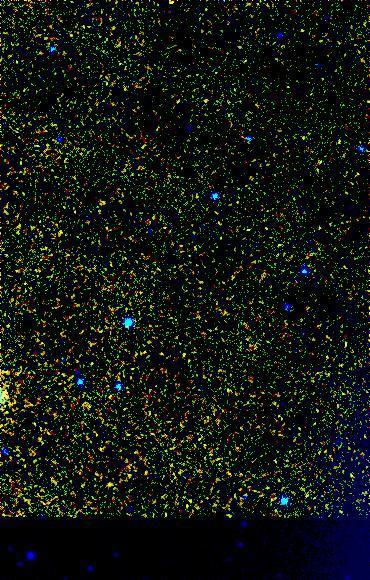star: (95, 472, 125, 502)
